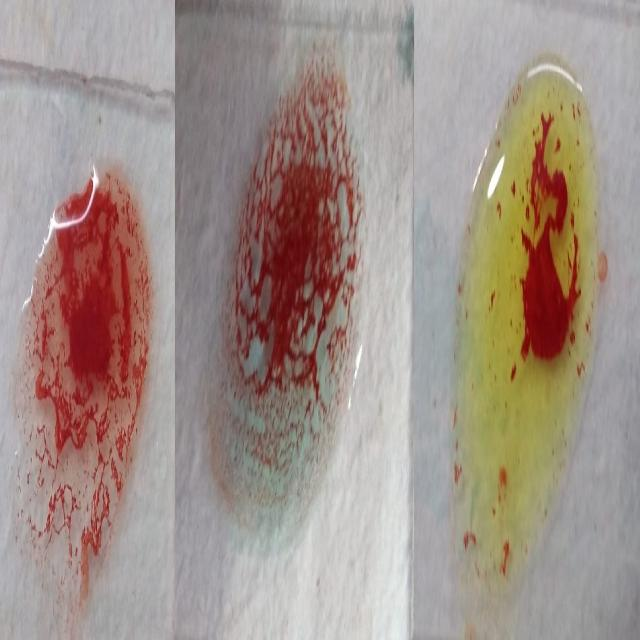A: (218, 60, 362, 558)
B: (450, 66, 602, 624)
D: (16, 174, 153, 598)
